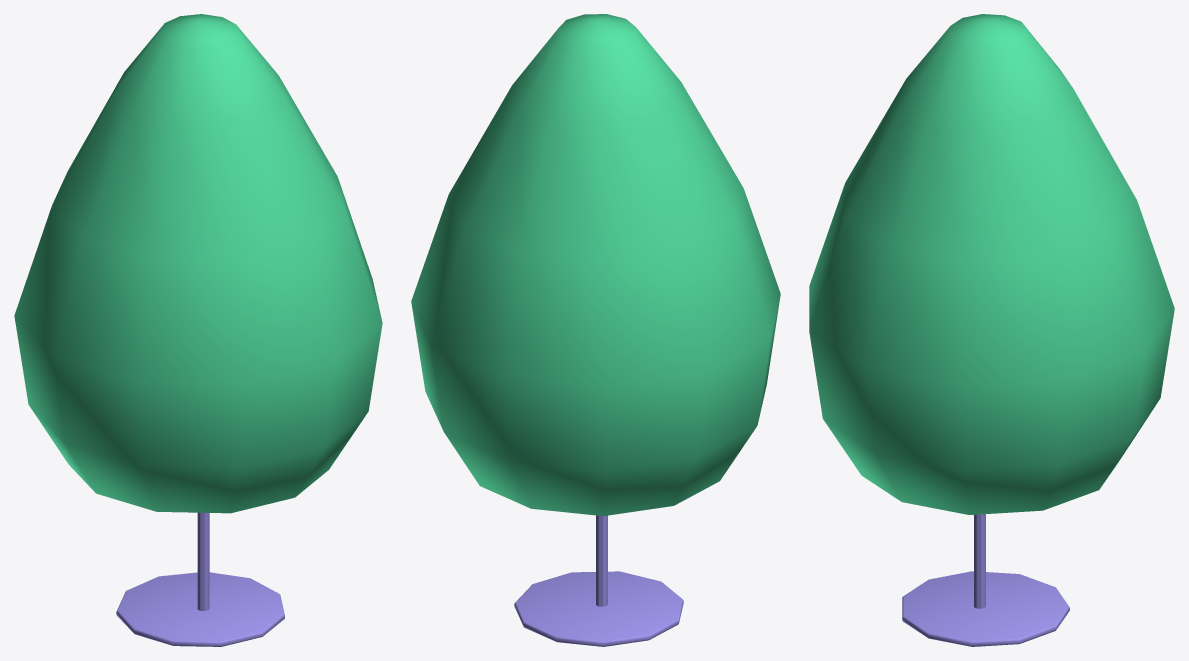
The model's file is Tree_Green.fbx.
3 views of the same model, side by side, from view 1: azimuth 30°, elevation 25°; view 2: azimuth 150°, elevation 25°; view 3: azimuth 270°, elevation 25° (orthographic).
Visible parts, largest first — view 1: Sphere.021, Circle.001, Cylinder.004; view 2: Sphere.021, Circle.001, Cylinder.004; view 3: Sphere.021, Circle.001, Cylinder.004.
Boxes of the visible parts, bbox=[...] form: Sphere.021: bbox=[14, 14, 382, 513]; Circle.001: bbox=[116, 572, 284, 646]; Cylinder.004: bbox=[197, 512, 209, 611]; Sphere.021: bbox=[411, 14, 780, 516]; Circle.001: bbox=[514, 571, 683, 646]; Cylinder.004: bbox=[596, 515, 607, 606]; Sphere.021: bbox=[809, 14, 1174, 514]; Circle.001: bbox=[902, 571, 1069, 646]; Cylinder.004: bbox=[974, 514, 985, 608].
Bounding box in the file's own units: 51.66 × 91.21 × 51.13.
